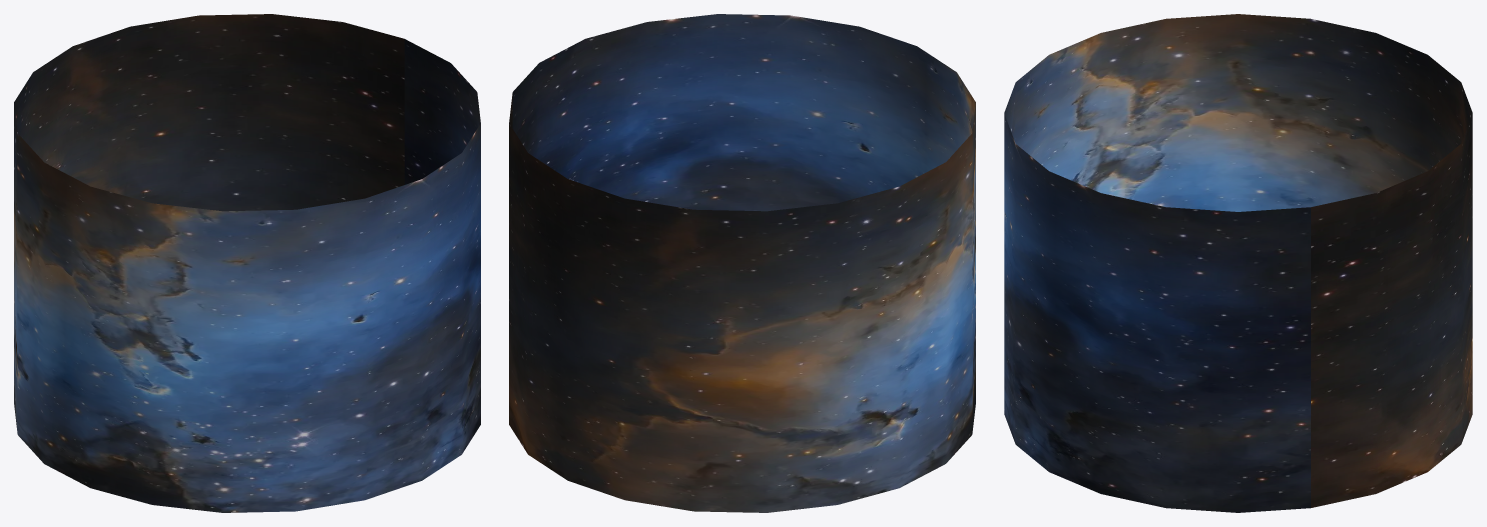
3 views of the same model, side by side, from view 1: azimuth 30°, elevation 25°; view 2: azimuth 150°, elevation 25°; view 3: azimuth 270°, elevation 25° (orthographic).
Parts seen in each view (by area): view 1: pCylinder40_lambert9_0; view 2: pCylinder40_lambert9_0; view 3: pCylinder40_lambert9_0.
Part boxes in pixels (bbox=[...]): pCylinder40_lambert9_0: bbox=[14, 14, 480, 512]; pCylinder40_lambert9_0: bbox=[509, 14, 975, 512]; pCylinder40_lambert9_0: bbox=[1004, 14, 1472, 512].
Size of the model in its own units: 91.83 by 65.08 by 91.83.
Materials: 3 (3 with a texture image).
